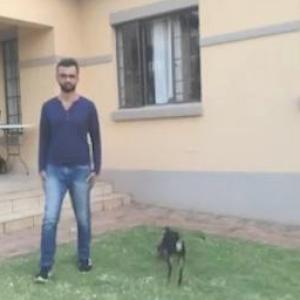follow: (33, 56, 104, 278)
